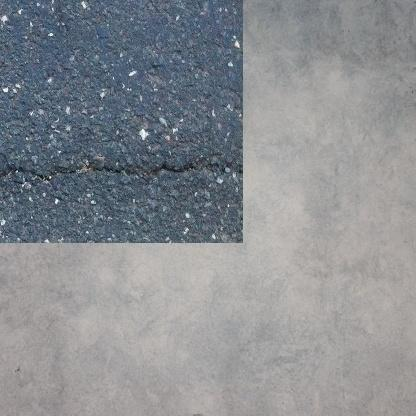Cracks: (30, 152, 114, 171), (134, 150, 182, 164), (0, 154, 13, 167)
